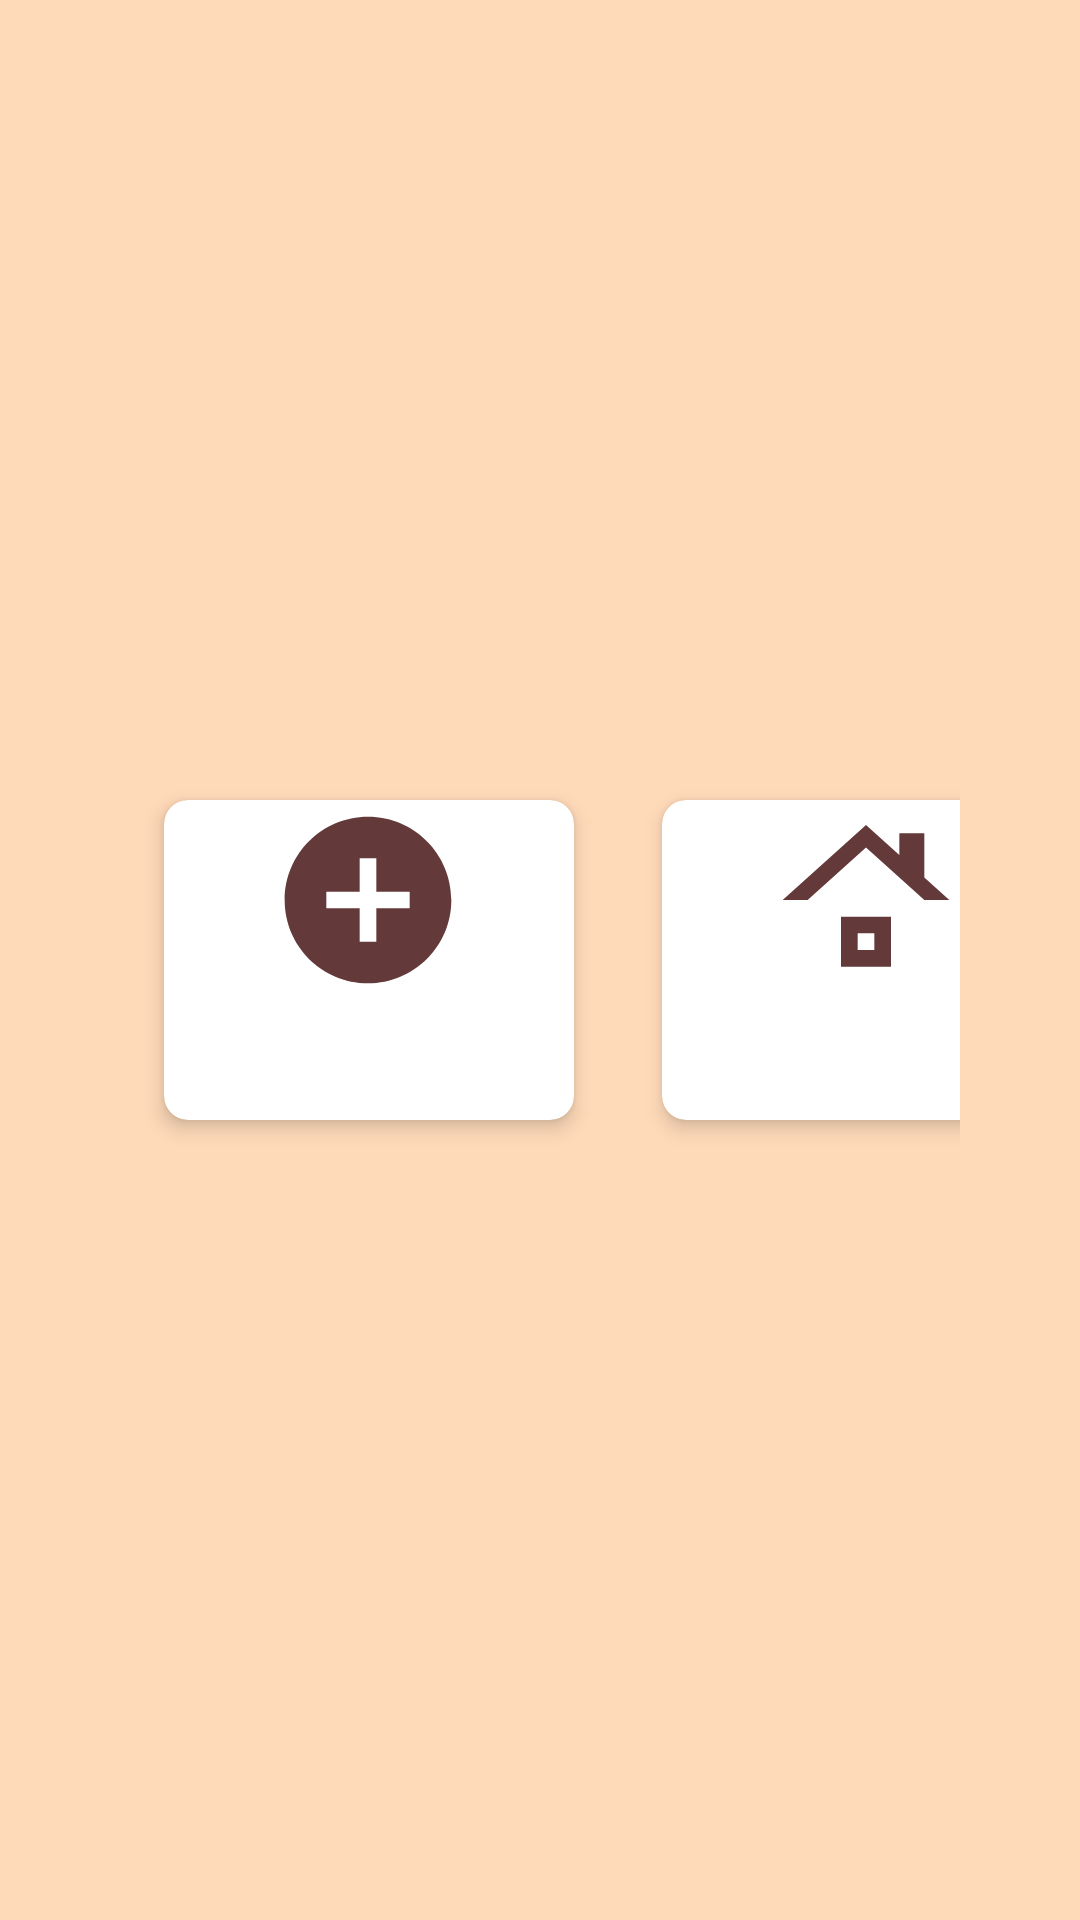

Icon click points for this 1080*1920 phone screenshot, format (x,y):
add circle: (368,900)
